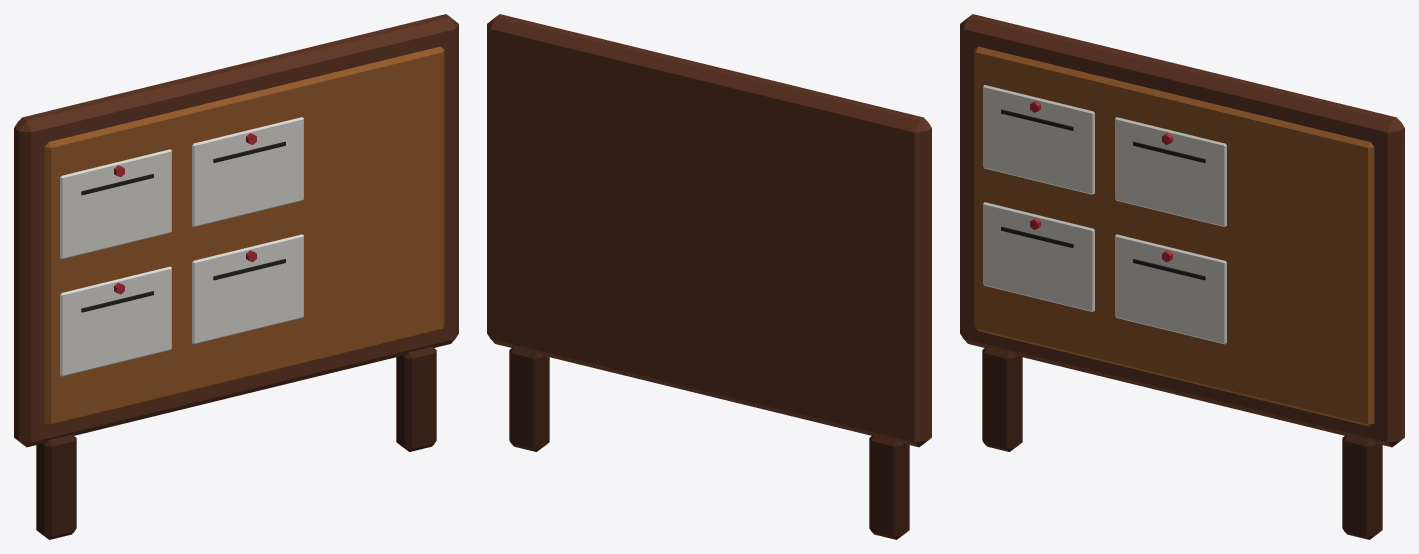
Rendered from board.glb.
The picture shows the model from 3 angles, left to right: view 1: azimuth 30°, elevation 25°; view 2: azimuth 150°, elevation 25°; view 3: azimuth 330°, elevation 25°; orthographic projection.
Visible parts, largest first — view 1: Body_mesh, Orders_mesh; view 2: Body_mesh; view 3: Body_mesh, Orders_mesh.
Boxes of the visible parts, x1,y1,x2,y2 form: Body_mesh: (14,14,458,539); Orders_mesh: (60,117,303,376); Body_mesh: (487,14,931,539); Body_mesh: (960,14,1404,539); Orders_mesh: (983,85,1226,344).
Size of the model in its own units: 1.1 by 1.01 by 0.101.
